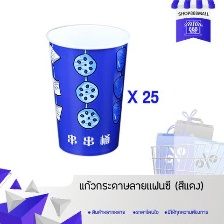paper_cup: (41, 16, 135, 163)
